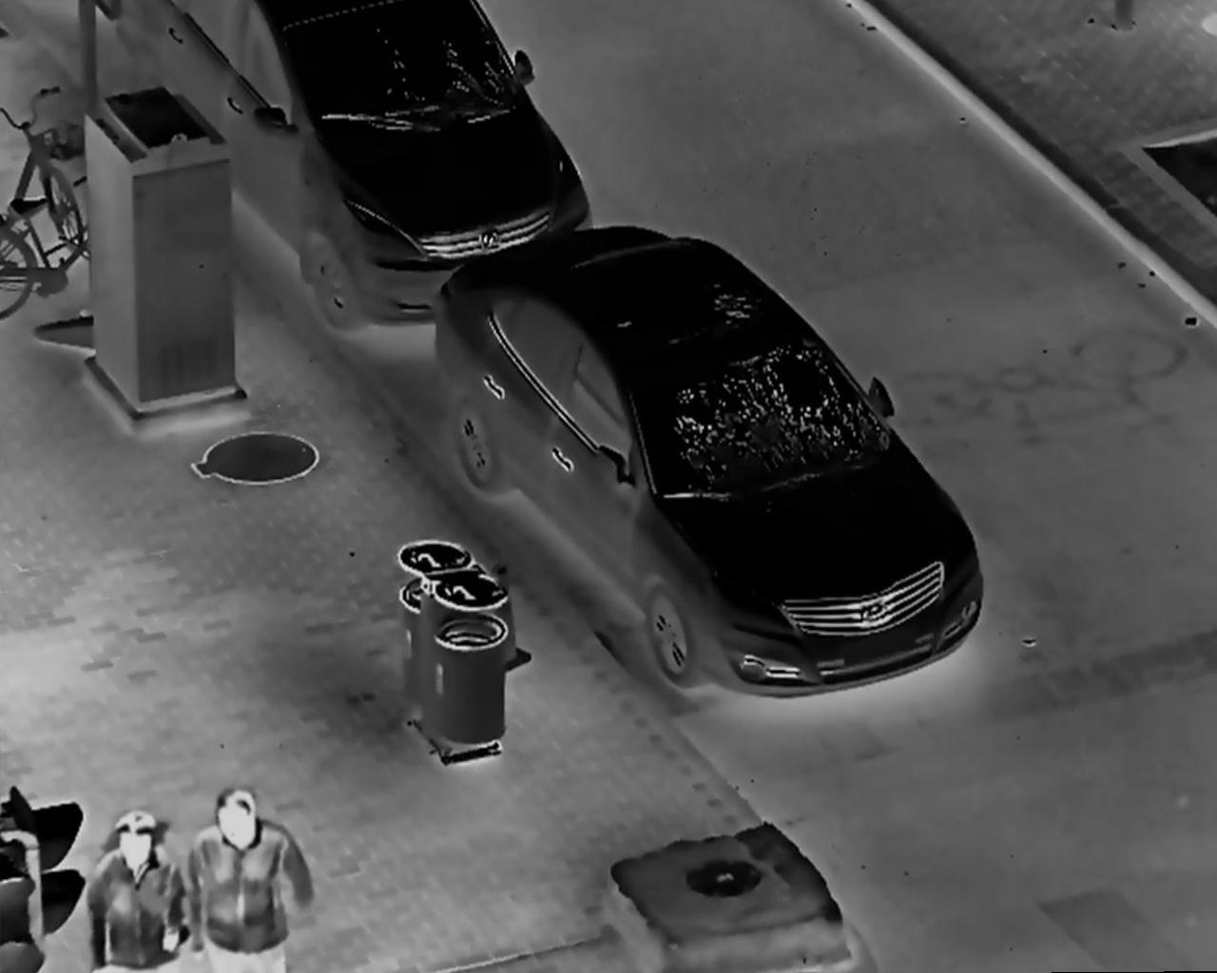person: (180, 788, 314, 973), (87, 808, 191, 973)
